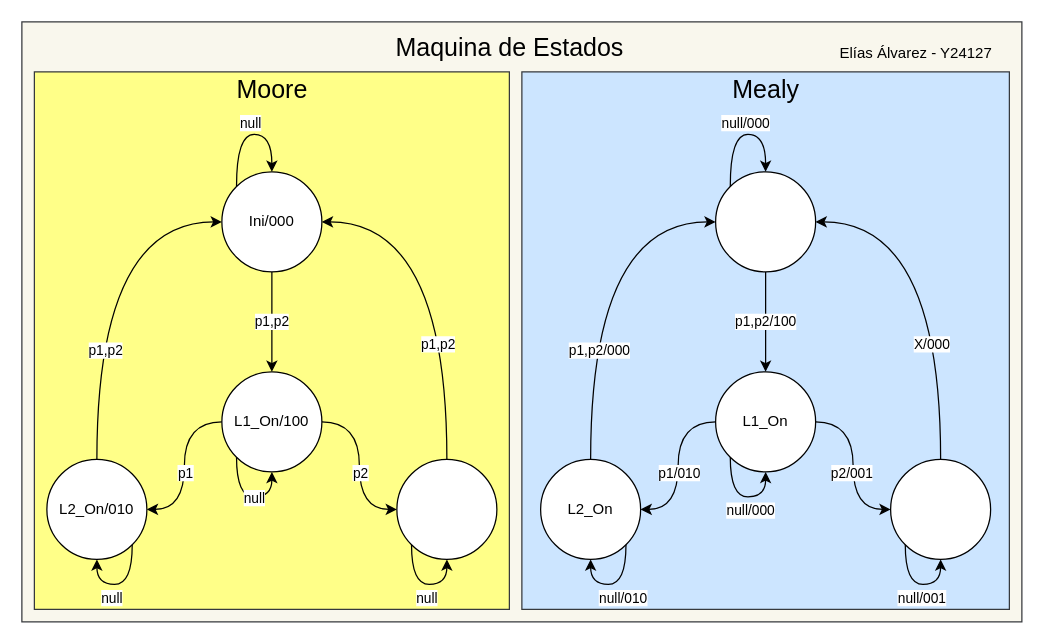
Image size: 1044x644. Some labels were removed from this diagram. The centre of each missing label's shape, as x and y in pixels:
Ini: the point at 765,221
L3_On: the point at 940,508
L3_On/001: the point at 446,508
